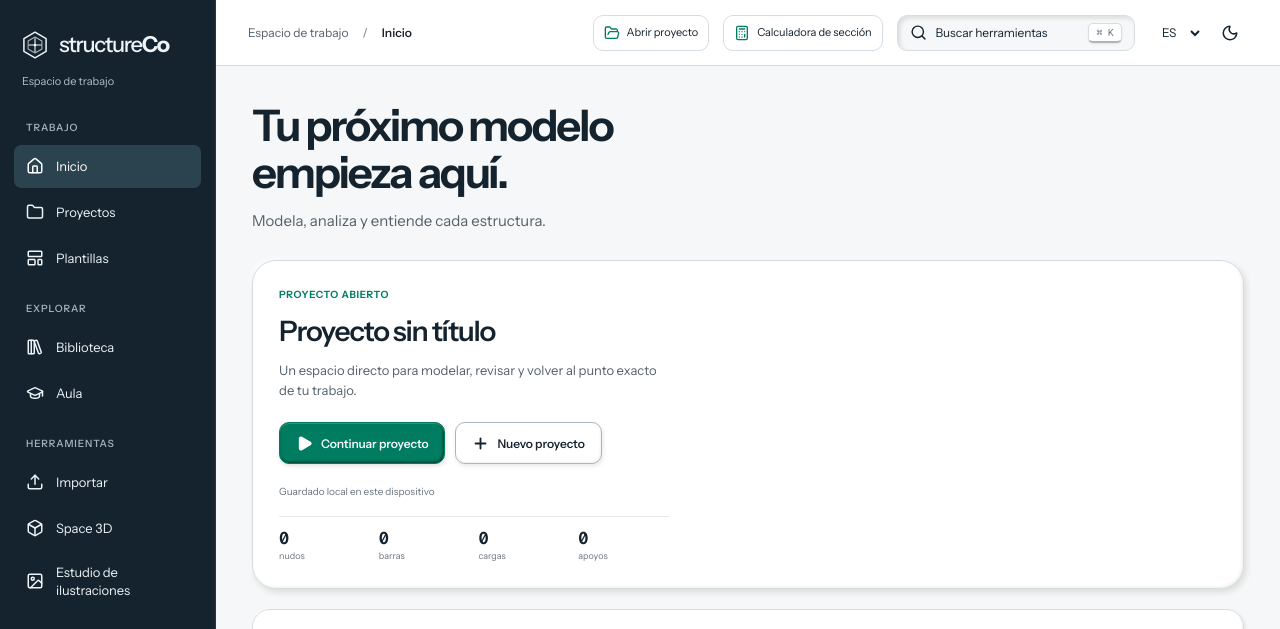
Scenario: WelcomeScreen header › changes the language from the welcome screen
The width and height of the screenshot is (1280, 629).
Select "EN" in the dropdown named "Idioma" at (1176, 32), box [1149, 14, 1204, 50]
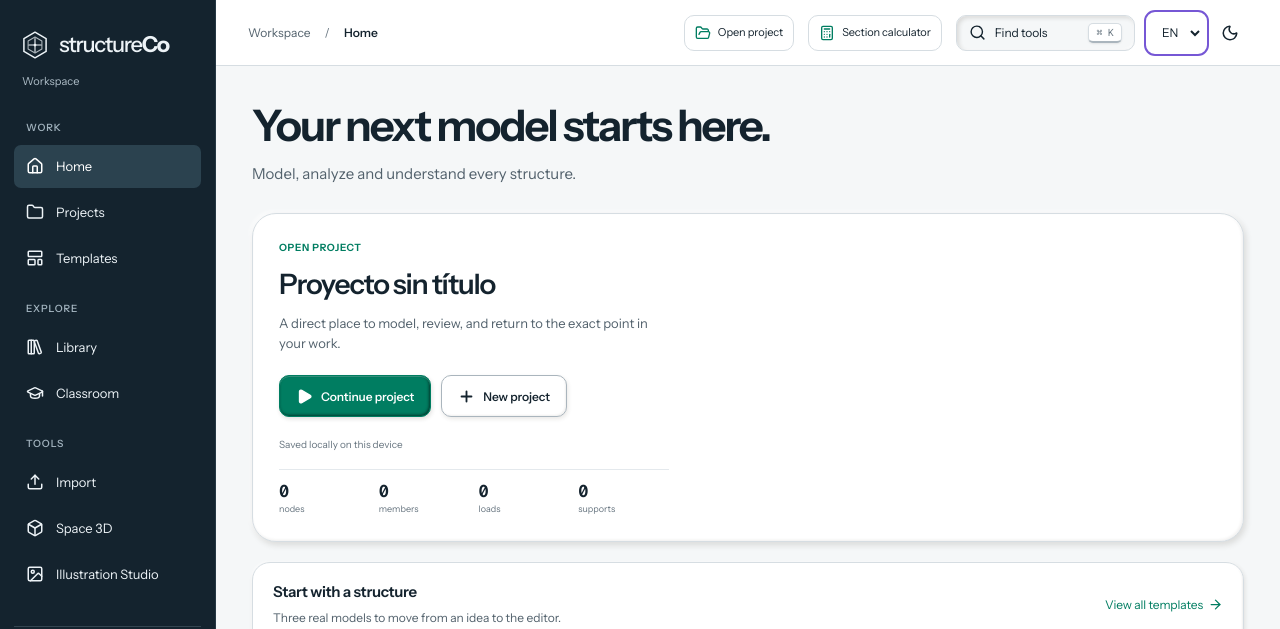
Check: the navigation bar named "Primary navigation" is shown, box [14, 120, 201, 596]
Check: the button "Projects" is shown, box [14, 190, 201, 234]
